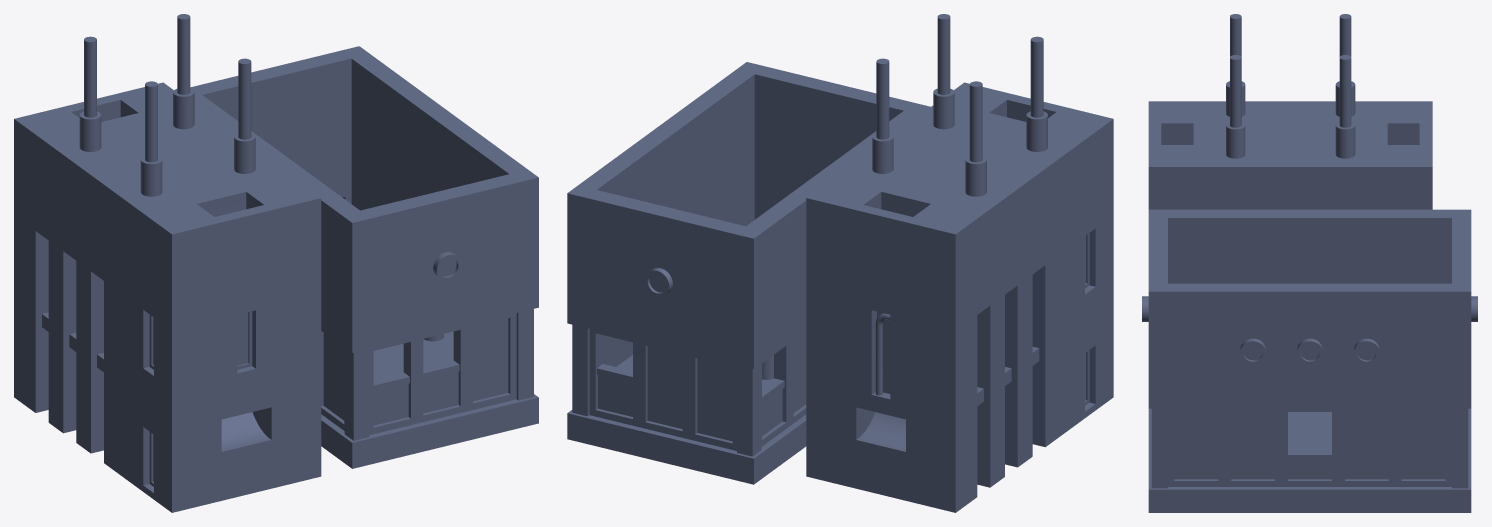
Rendered from ir_tower_witbox.dae.
3 renders of one model, left to right at view 1: azimuth 30°, elevation 25°; view 2: azimuth 150°, elevation 25°; view 3: azimuth 270°, elevation 25°, orthographic. The views are drawn at different scales.
Visible parts, largest first — view 1: group_3 (×7), group_7 (×10), pin_holder (×8); view 2: group_3 (×7), group_7 (×11), pin_holder (×8), group_4; view 3: group_7 (×12), group_3 (×3), pin_holder (×6).
Part boxes in pixels (bbox=[...]): group_3 (×7): bbox=[14, 82, 321, 512]; group_7 (×10): bbox=[190, 46, 538, 468]; pin_holder (×8): bbox=[79, 14, 255, 196]; group_3 (×7): bbox=[806, 82, 1113, 512]; group_7 (×11): bbox=[567, 62, 930, 484]; pin_holder (×8): bbox=[872, 14, 1047, 196]; group_4: bbox=[875, 313, 890, 395]; group_7 (×12): bbox=[1148, 209, 1471, 512]; group_3 (×3): bbox=[1148, 101, 1432, 209]; pin_holder (×6): bbox=[1226, 14, 1355, 158].
Bounding box in the file's own units: 2.36 × 2.05 × 2.34.
